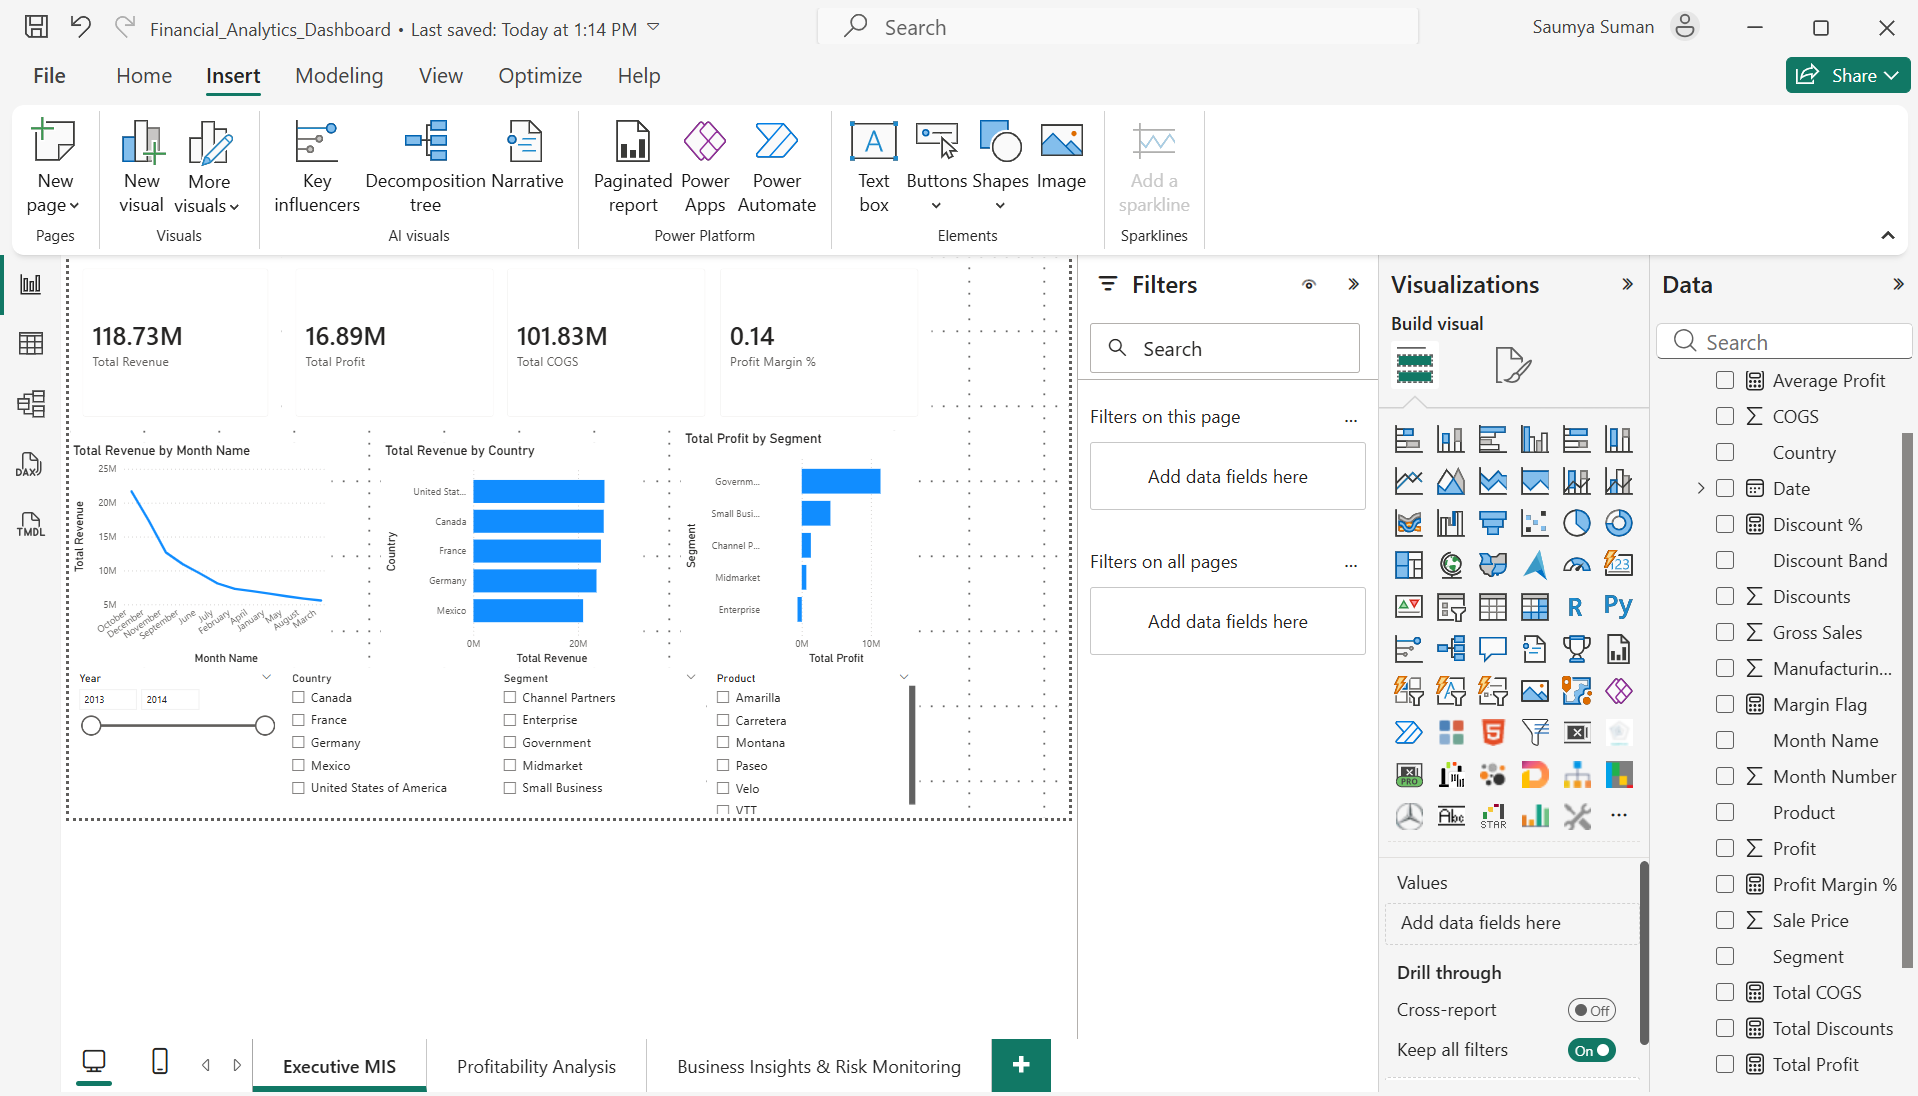

This screenshot's page, from the dashboard's own definition file:
{"tool":"powerbi","page":{"name":"Executive MIS","canvas":[1280,720],"ordinal":0},"visuals":[{"type":"cardVisual","fields":{"Data":["financials.Total Revenue"]},"box":[0,0,272,224],"z":0},{"type":"cardVisual","fields":{"Data":["financials.Total Profit"]},"box":[272,0,288,224],"z":1},{"type":"cardVisual","fields":{"Data":["financials.Total COGS"]},"box":[544,0,288,224],"z":2},{"type":"cardVisual","fields":{"Data":["financials.Profit Margin %"]},"box":[816,0,288,224],"z":3},{"type":"lineChart","fields":{"Category":["financials.Month Name"],"Y":["financials.Total Revenue"]},"box":[0,240,336,288],"z":4},{"type":"clusteredBarChart","fields":{"Category":["financials.Country"],"Y":["financials.Total Revenue"]},"box":[400,240,336,288],"z":5},{"type":"clusteredBarChart","fields":{"Category":["financials.Segment"],"Y":["financials.Total Profit"]},"box":[784,224,304,304],"z":6},{"type":"slicer","fields":{"Values":["financials.Year"]},"box":[0,528,272,192],"z":7},{"type":"slicer","fields":{"Values":["financials.Country"]},"box":[272,528,272,192],"z":8},{"type":"slicer","fields":{"Values":["financials.Segment"]},"box":[544,528,272,192],"z":9},{"type":"slicer","fields":{"Values":["financials.Product"]},"box":[816,528,272,192],"z":10}]}

Visuals, with their boxes on the page's 1280x720 design canvas (x1, y1, x2, y2). These are canvas units, not pixel positions in the 1918x1096 screenshot, which may show the page scaled, cropped or inside an application window:
cardVisual - financials.Total Revenue: [0, 0, 272, 224]
cardVisual - financials.Total Profit: [272, 0, 560, 224]
cardVisual - financials.Total COGS: [544, 0, 832, 224]
cardVisual - financials.Profit Margin %: [816, 0, 1104, 224]
lineChart - financials.Month Name x financials.Total Revenue: [0, 240, 336, 528]
clusteredBarChart - financials.Country x financials.Total Revenue: [400, 240, 736, 528]
clusteredBarChart - financials.Segment x financials.Total Profit: [784, 224, 1088, 528]
slicer - financials.Year: [0, 528, 272, 720]
slicer - financials.Country: [272, 528, 544, 720]
slicer - financials.Segment: [544, 528, 816, 720]
slicer - financials.Product: [816, 528, 1088, 720]
